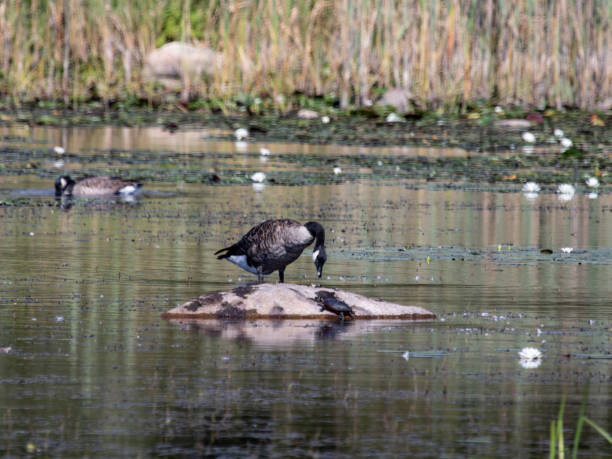goose: (209, 217, 328, 283), (51, 170, 142, 197)
